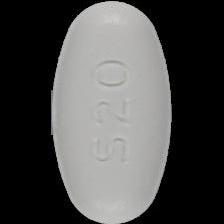43063-054: (0, 0, 224, 224)
